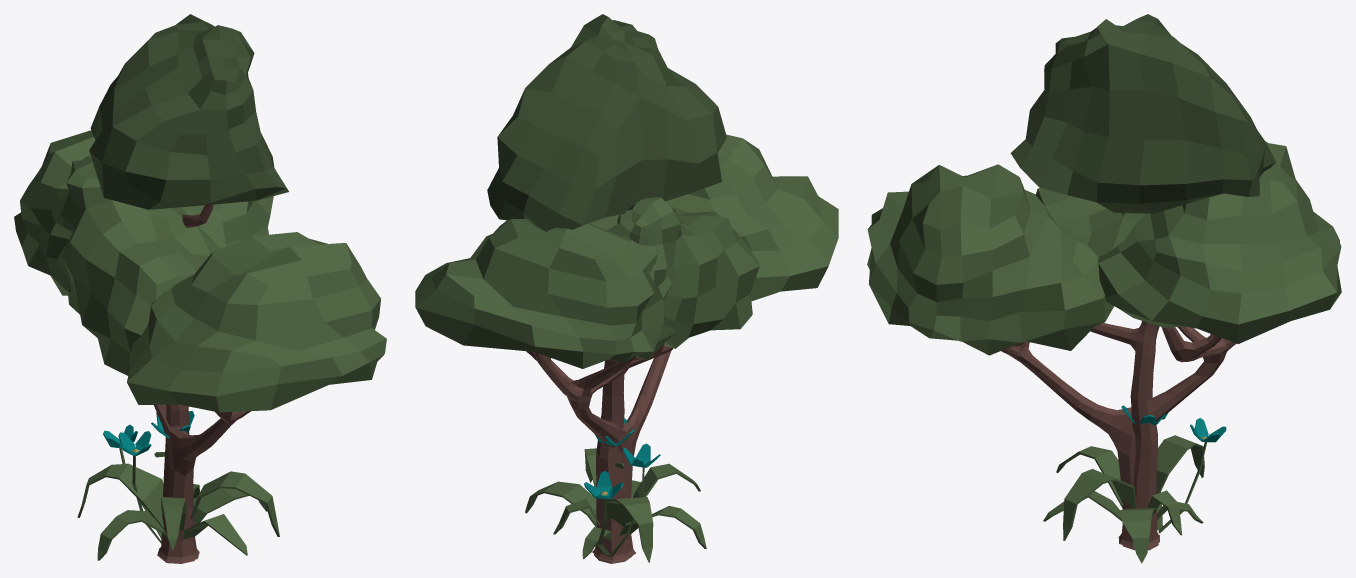
The model's file is nature.glb.
The picture shows the model from 3 angles, left to right: view 1: azimuth 30°, elevation 25°; view 2: azimuth 150°, elevation 25°; view 3: azimuth 270°, elevation 25°; orthographic projection. The views are drawn at different scales.
Parts seen in each view (by area): view 1: CommonTree_1, CommonTree_3, Plant_1, Flowers; view 2: CommonTree_3, CommonTree_1, Plant_1, Flowers; view 3: CommonTree_1, CommonTree_3, Plant_1, Flowers.
Part boxes in pixels (bbox=[...]): CommonTree_1: bbox=[14, 130, 386, 562]; CommonTree_3: bbox=[52, 14, 288, 563]; Plant_1: bbox=[77, 463, 279, 560]; Flowers: bbox=[103, 411, 194, 543]; CommonTree_3: bbox=[487, 14, 759, 563]; CommonTree_1: bbox=[415, 134, 838, 561]; Plant_1: bbox=[525, 448, 706, 562]; Flowers: bbox=[584, 418, 660, 557]; CommonTree_1: bbox=[867, 141, 1341, 548]; CommonTree_3: bbox=[1010, 14, 1276, 550]; Plant_1: bbox=[1043, 435, 1204, 563]; Flowers: bbox=[1121, 405, 1226, 533].
Bounding box in the file's own units: 1.89 × 3.46 × 2.77.
